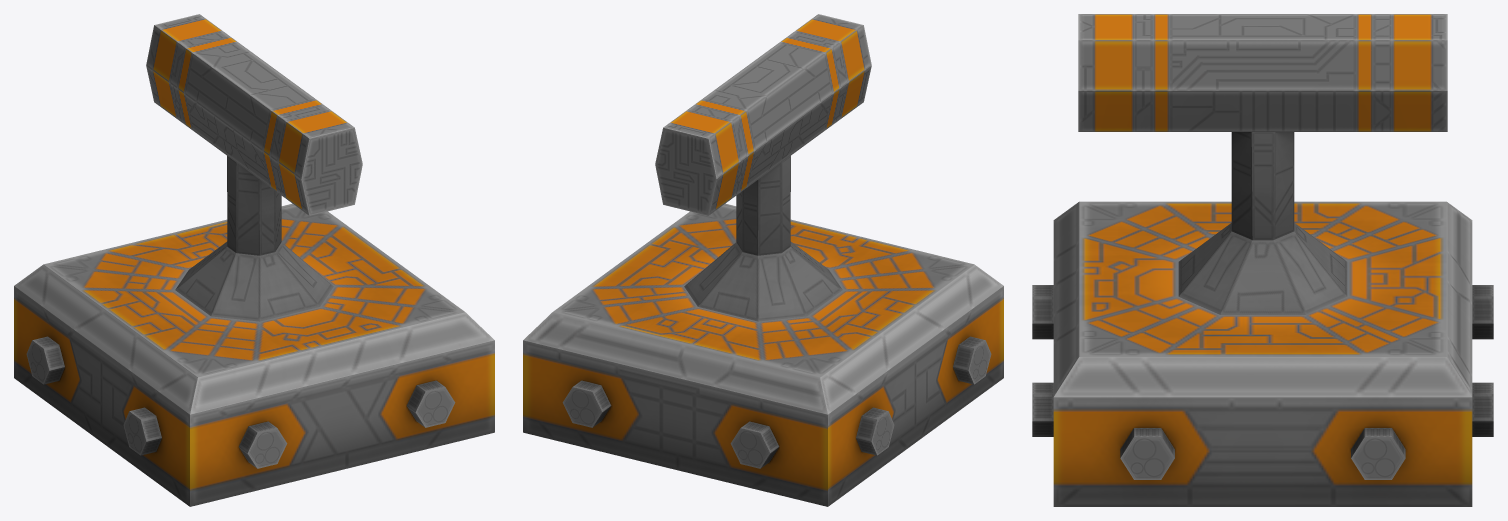
Rendered from RadarBar.dae.
3 renders of one model, left to right at view 1: azimuth 30°, elevation 25°; view 2: azimuth 150°, elevation 25°; view 3: azimuth 270°, elevation 25°, orthographic. The views are drawn at different scales.
Parts seen in each view (by area): view 1: RadarBar; view 2: RadarBar; view 3: RadarBar.
Boxes of the visible parts, x1,y1,x2,y2 form: RadarBar: (14, 14, 494, 506); RadarBar: (523, 14, 1003, 506); RadarBar: (1032, 14, 1493, 506).
Bounding box in the file's own units: 2 × 1.87 × 2.
